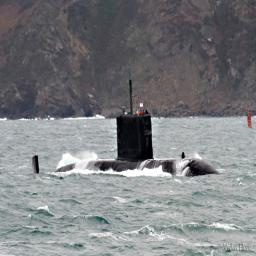submarine: (32, 108, 225, 175)
